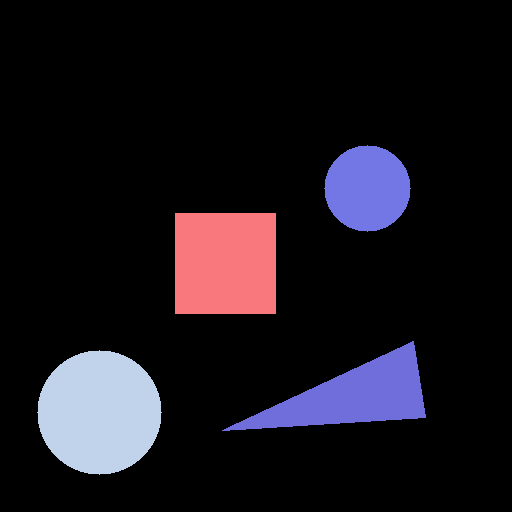circle: (37, 350, 161, 474), (324, 145, 410, 231)
square: (175, 213, 275, 313)
triangle: (222, 341, 425, 430)
